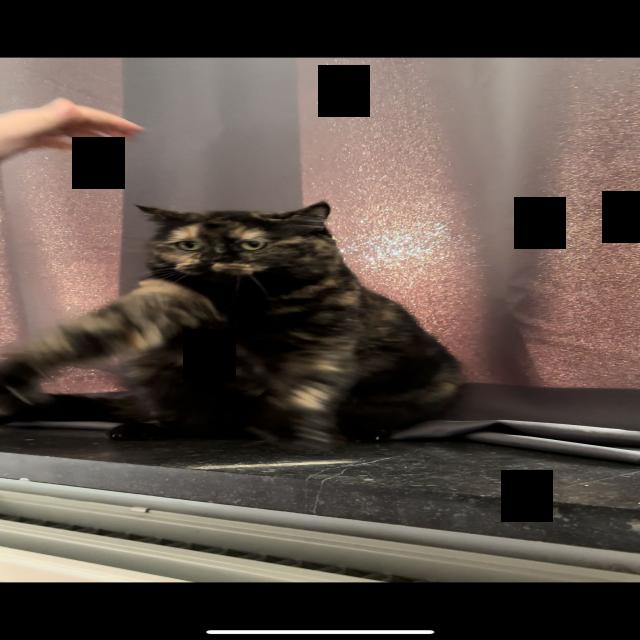authorized: (1, 200, 467, 450)
